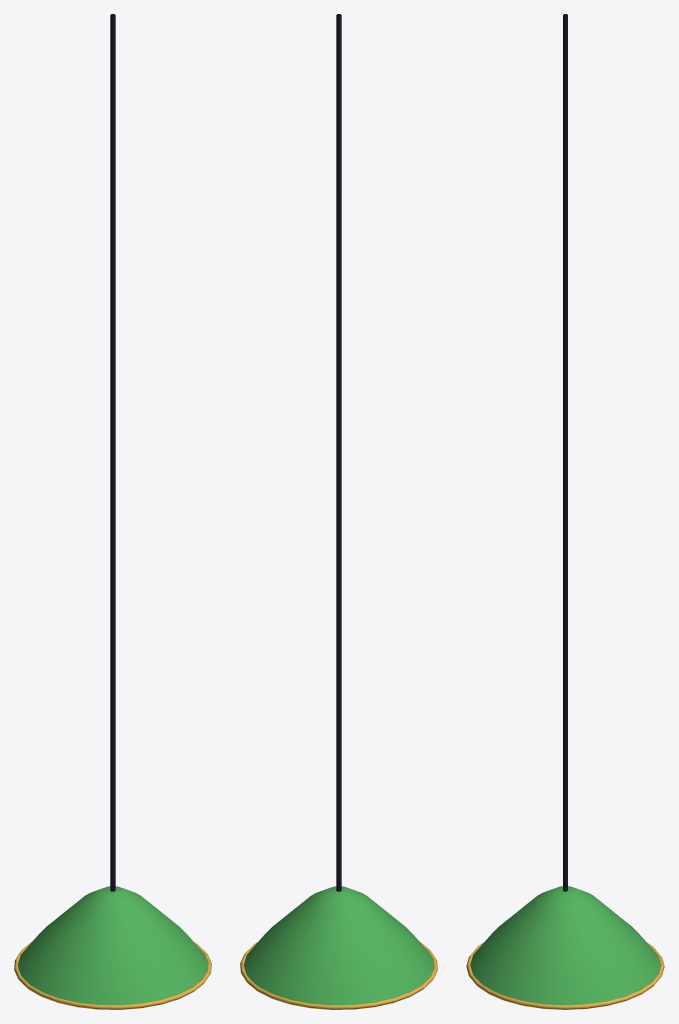
Rendered from toy_pendant.glb.
The picture shows the model from 3 angles, left to right: view 1: azimuth 30°, elevation 25°; view 2: azimuth 150°, elevation 25°; view 3: azimuth 270°, elevation 25°; orthographic projection.
Visible parts, largest first — view 1: toy_pendant; view 2: toy_pendant; view 3: toy_pendant.
Part boxes in pixels (<box>): toy_pendant: <box>14,14,211,1009</box>; toy_pendant: <box>240,14,437,1009</box>; toy_pendant: <box>466,14,664,1009</box>.
Bounding box in the file's own units: 6.16 × 32.7 × 6.16.
